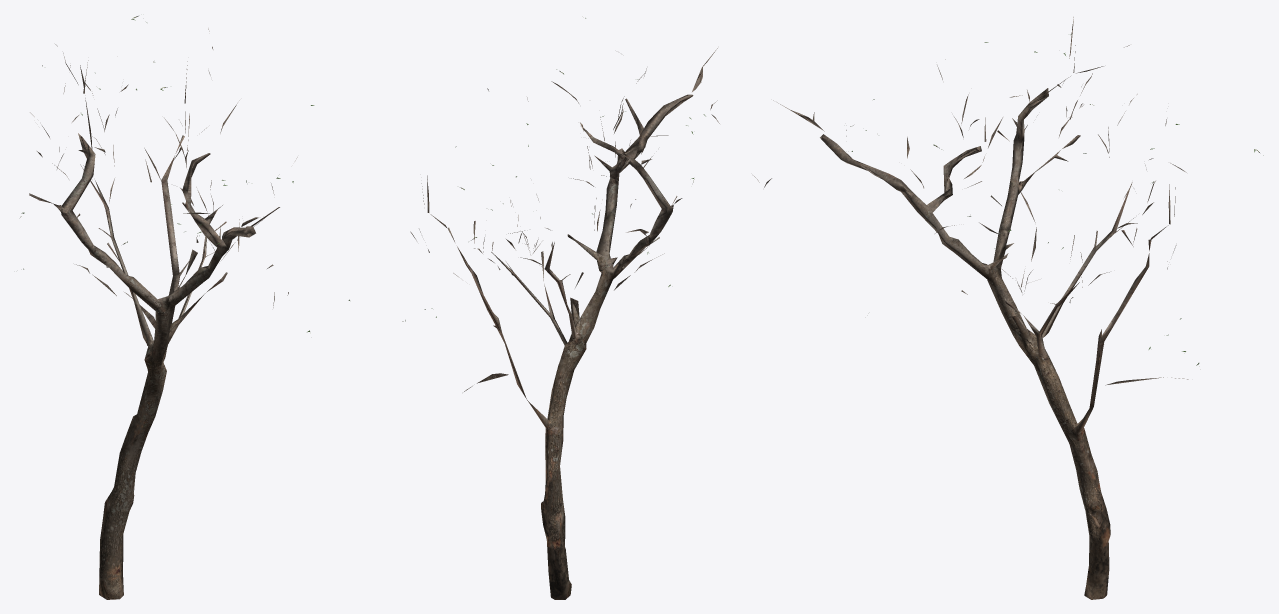
3 views of the same model, side by side, from view 1: azimuth 30°, elevation 25°; view 2: azimuth 150°, elevation 25°; view 3: azimuth 270°, elevation 25° (orthographic). The views are drawn at different scales.
Visible parts, largest first — view 1: tree_small_02_LOD0; view 2: tree_small_02_LOD0; view 3: tree_small_02_LOD0.
Boxes of the visible parts, x1,y1,x2,y2 form: tree_small_02_LOD0: [20, 16, 314, 599]; tree_small_02_LOD0: [348, 18, 719, 599]; tree_small_02_LOD0: [753, 17, 1263, 599].
Bounding box in the file's own units: 2.36 × 4.36 × 3.59.
Materials: 3 (3 with a texture image).
